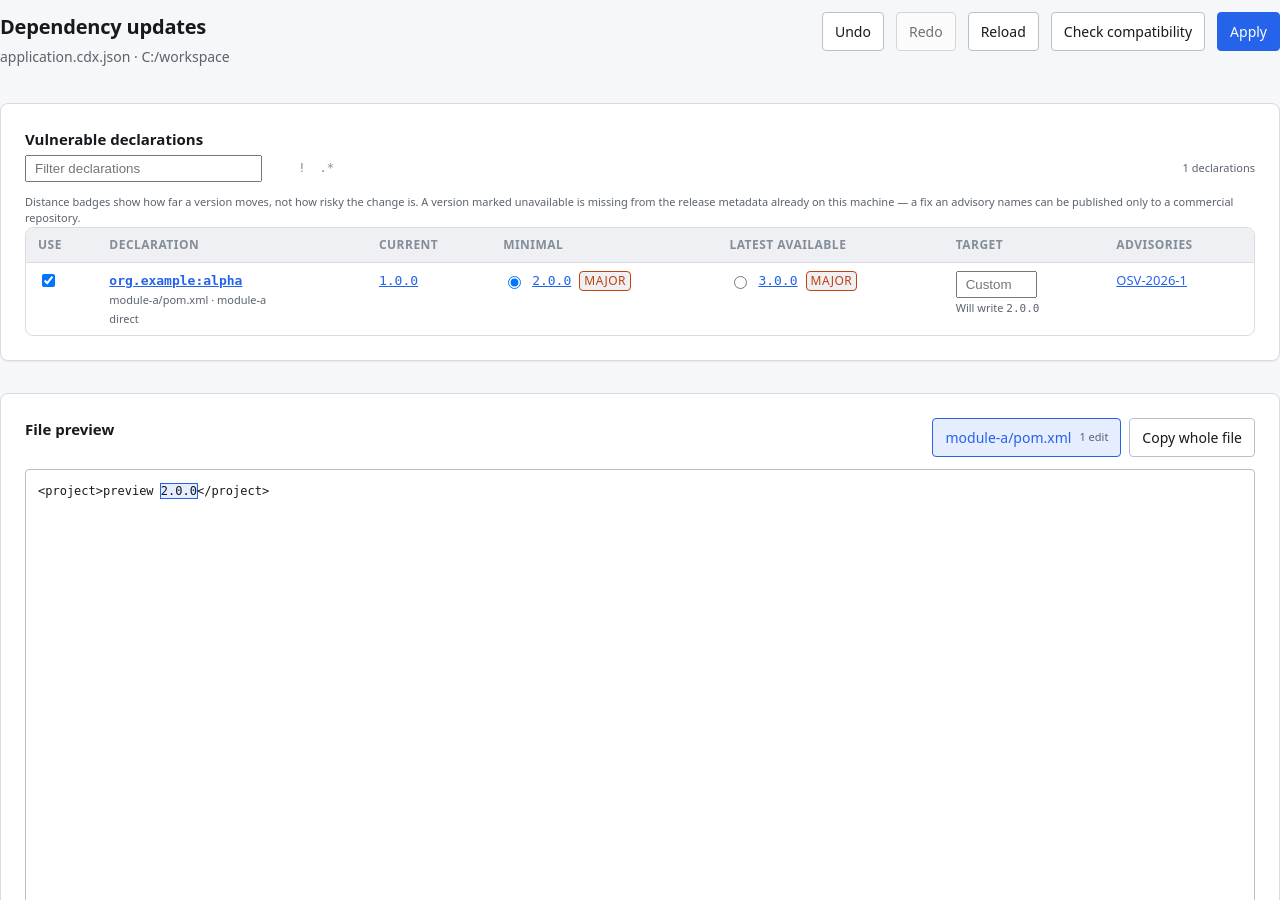
it: BumpPage › sends the previewed text and reports what was written
Expected: the checkbox named "Select org.example:alpha" is shown, [42,274,55,286]
Click the button "Apply": (1249, 32) [1217,12,1279,51]
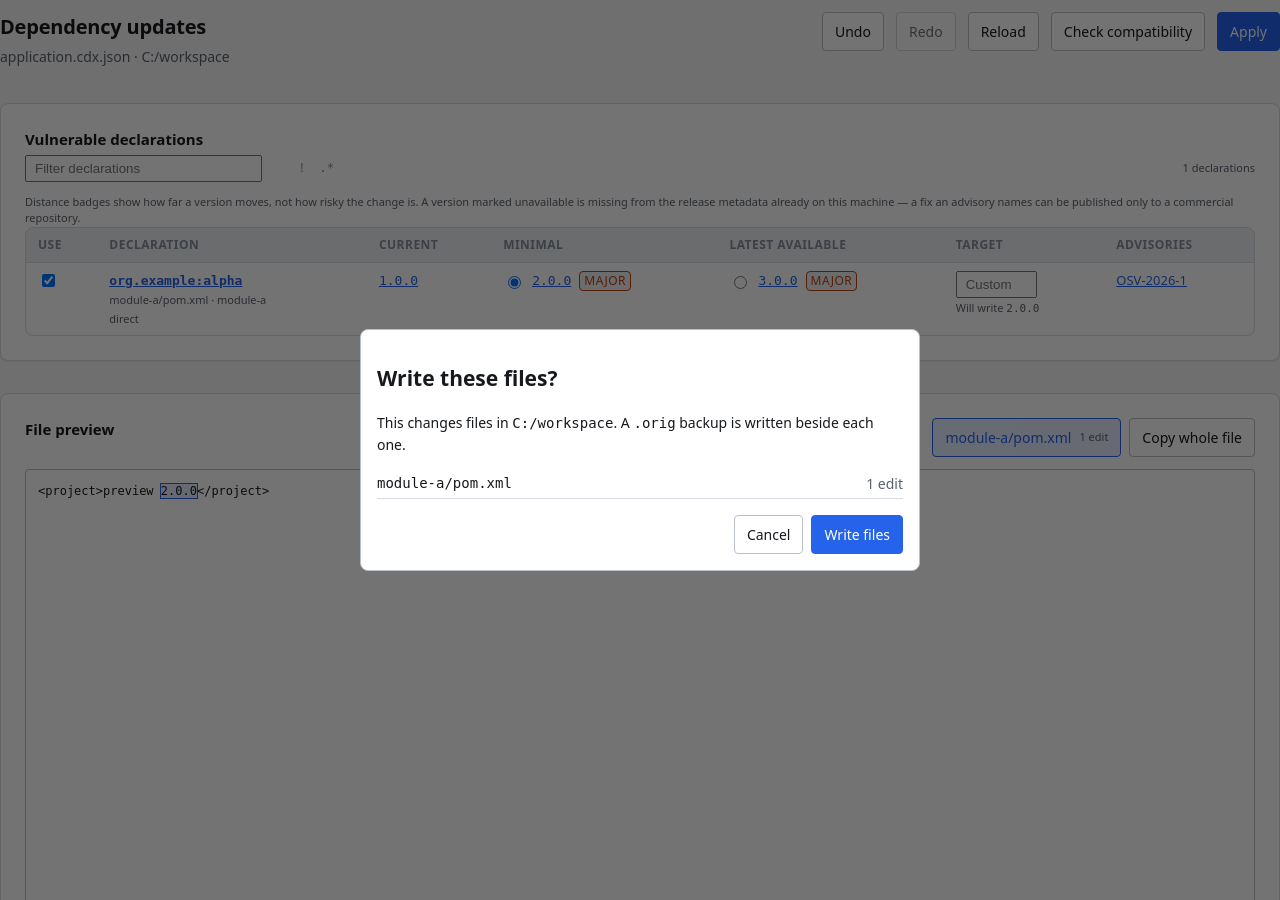
Click the button "Write files": (857, 535) [812,515,903,554]
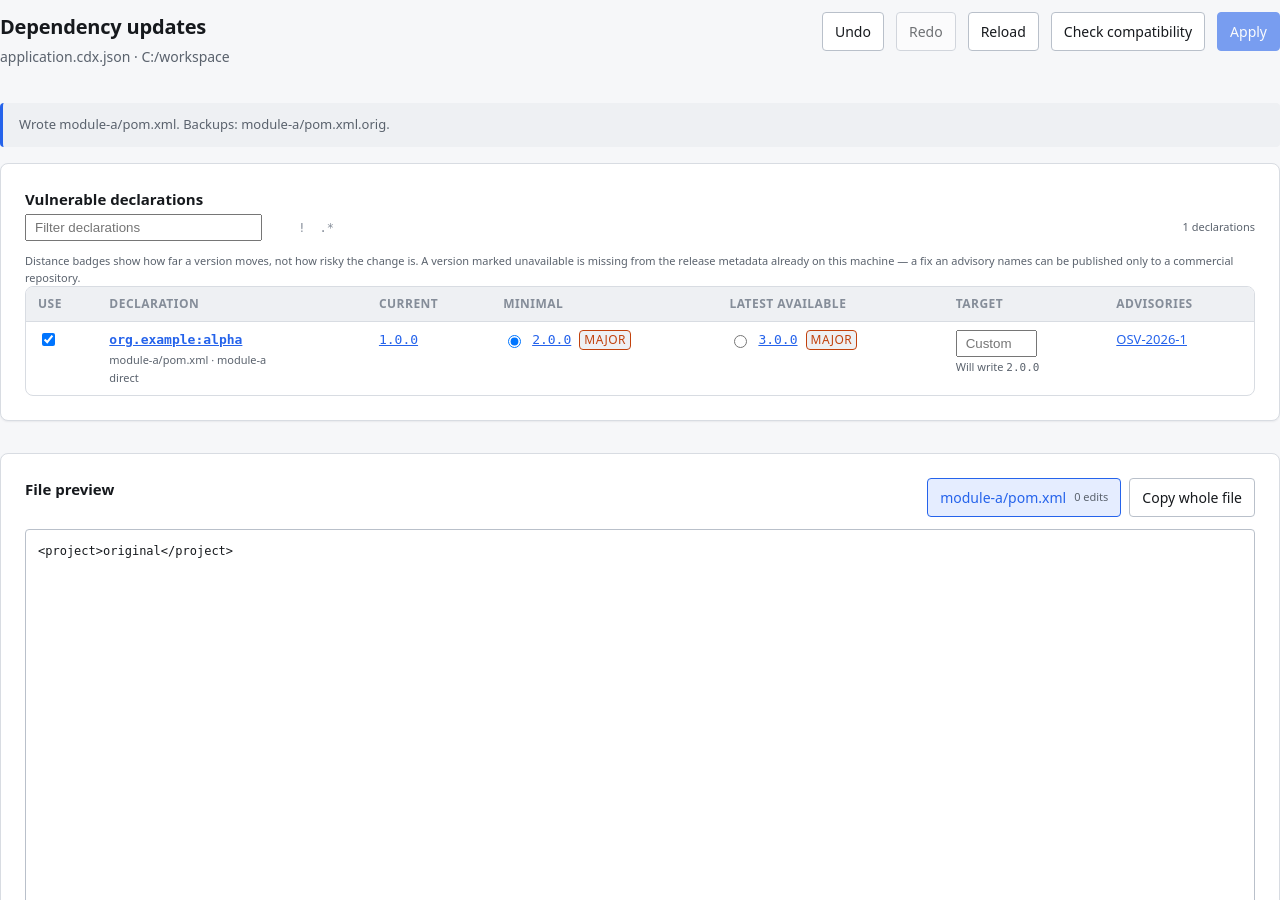
Expected: the message shows "module-a/pom.xml.orig", [19,115,390,133]
Expected: the dialog is gone
